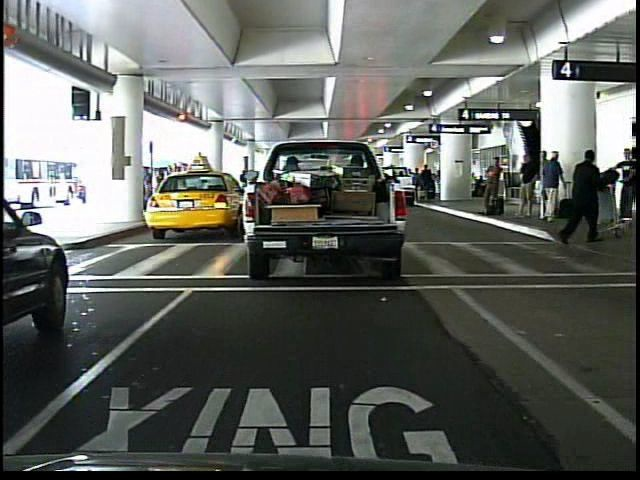person: (561, 145, 606, 245), (541, 150, 567, 224), (619, 145, 638, 225)
